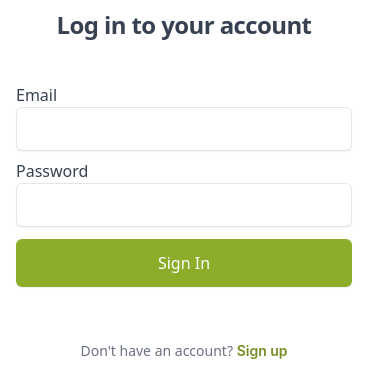
Test: Signin Component › displays error message on signin failure with specific error message
Type "john@example.com" into the field labelled "Email" at [184, 129], box [16,107,352,151]
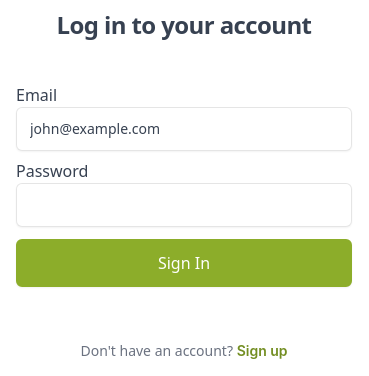
Type "password123" into the password field labelled "Password" at [184, 205], box [16,183,352,227]
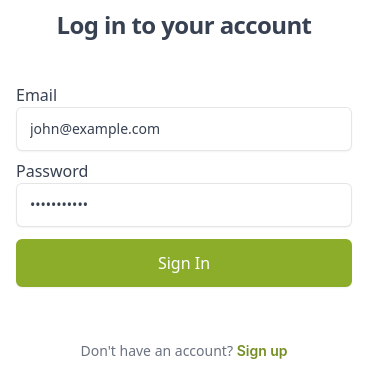
Click the button "Sign In" at [184, 263], box [16,239,352,287]
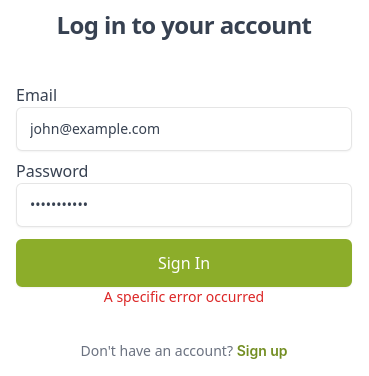
Check: the text "A specific error occurred" is shown, box [104,287,264,306]
